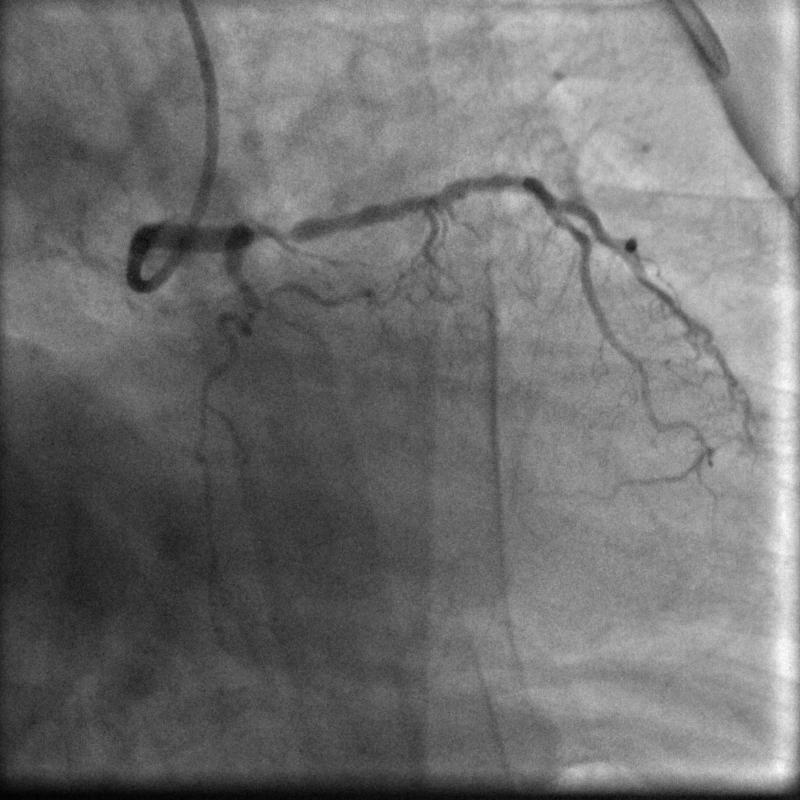Stenosis: (249, 214, 305, 248)
